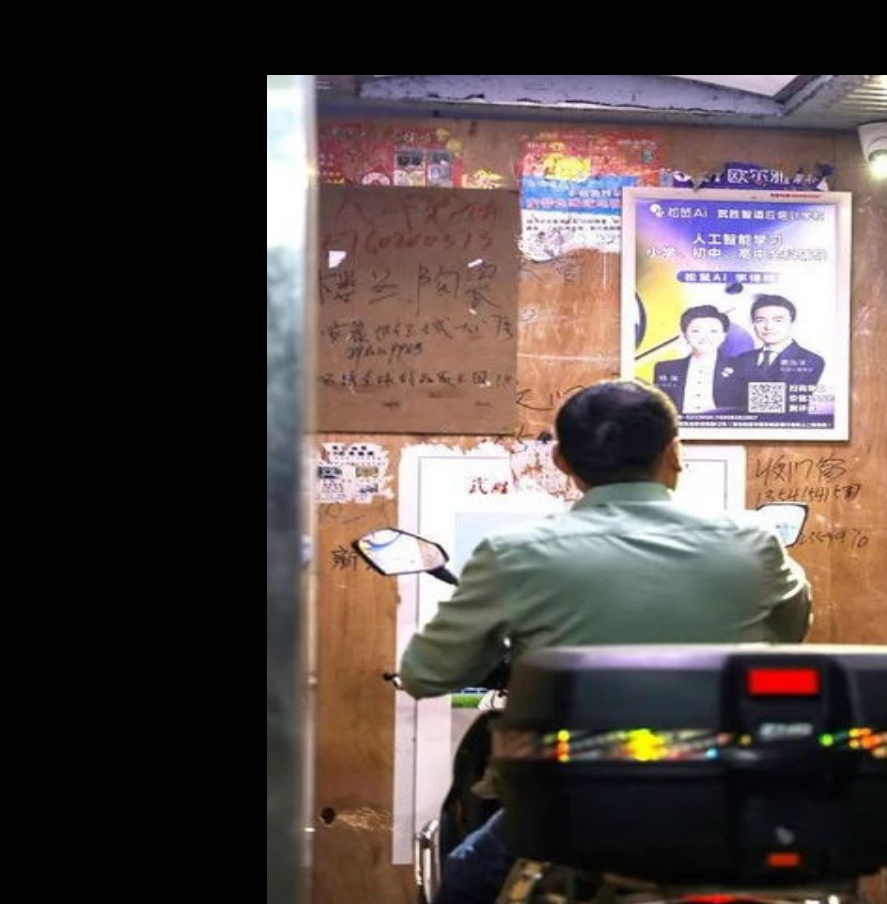ebike: (352, 507, 887, 898)
person: (400, 375, 816, 882)
